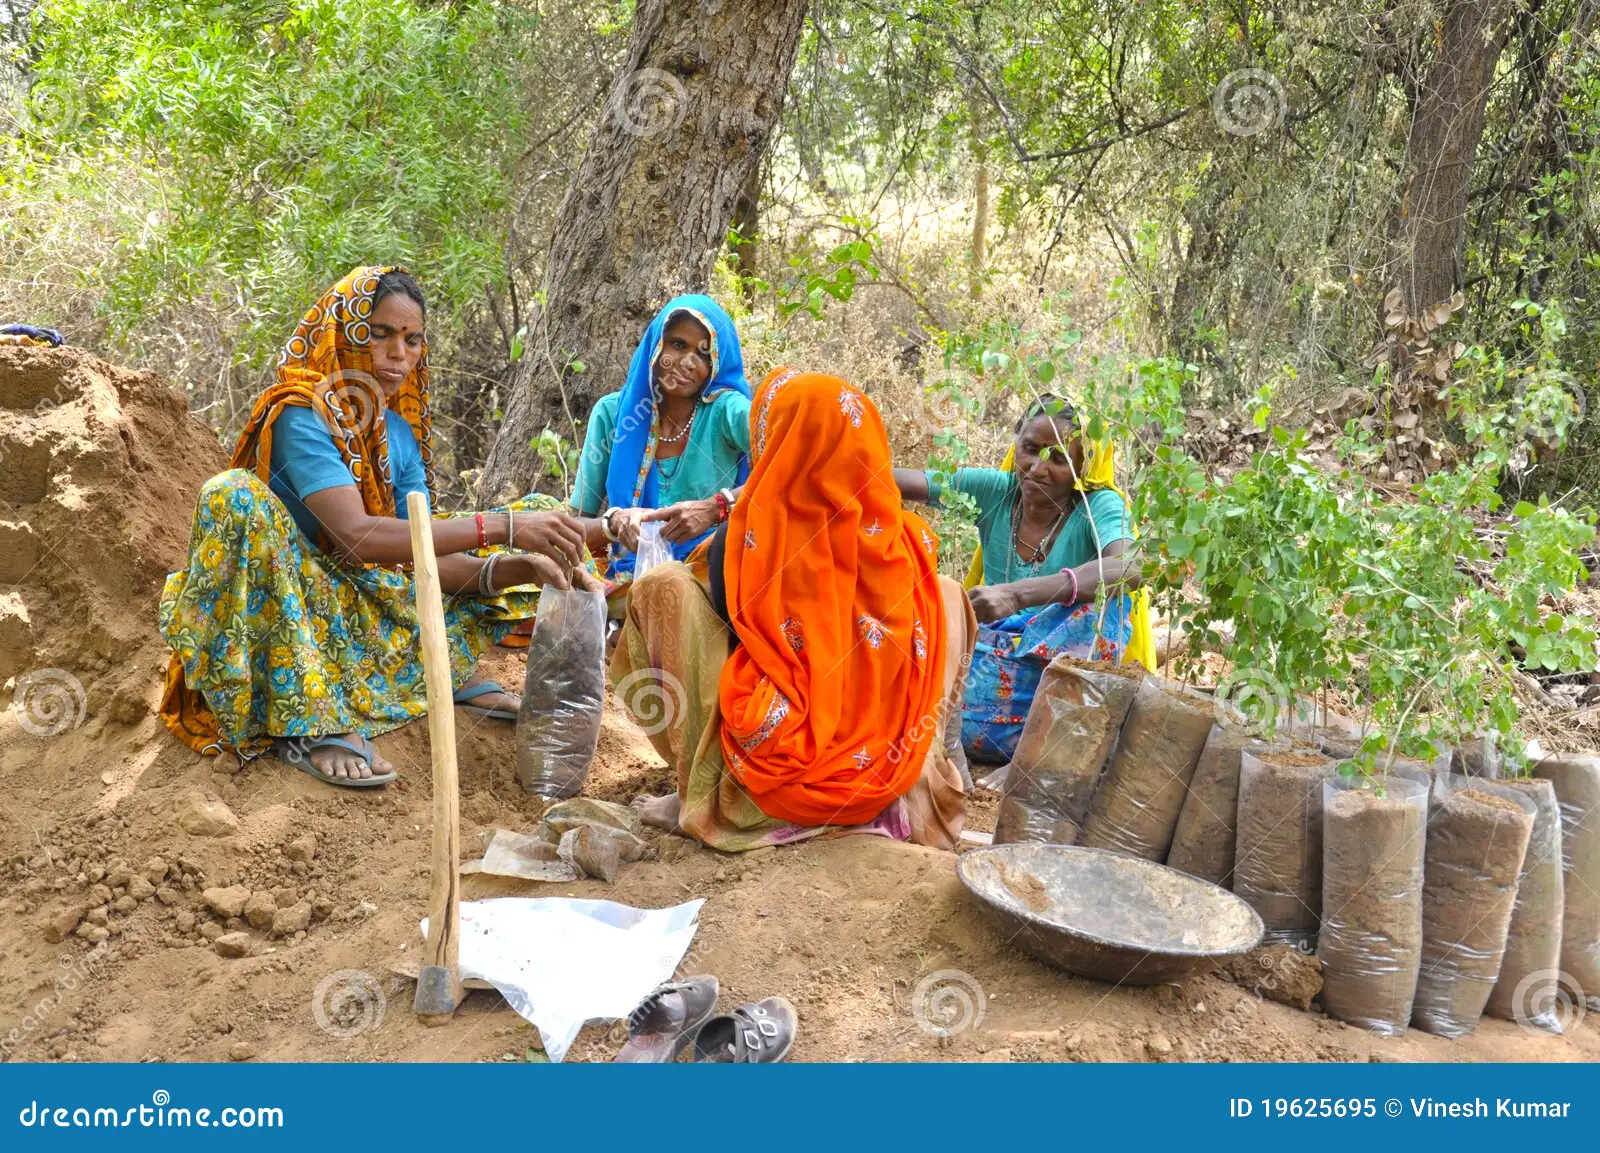person: (359, 269, 435, 389), (647, 319, 733, 407), (1018, 409, 1085, 511)
